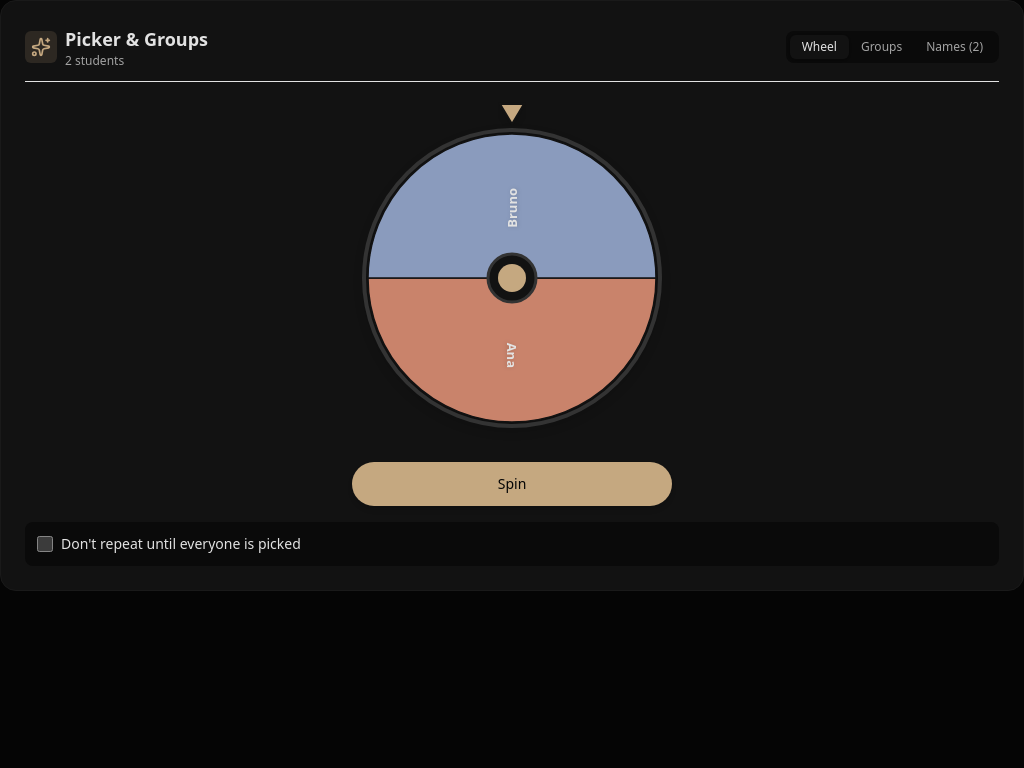
Test: ClassroomPicker (SDD/2026-10-03_06-sorteador-de-alunos-e-grupos.md) › CT08 / CA08: with prefers-reduced-motion: reduce, winner appears immediately without spin animation delay
What coordinates should you click on to do the following:
click the button "Spin"
I would click on:
 (512, 484)
Its box is [352,462,672,506].
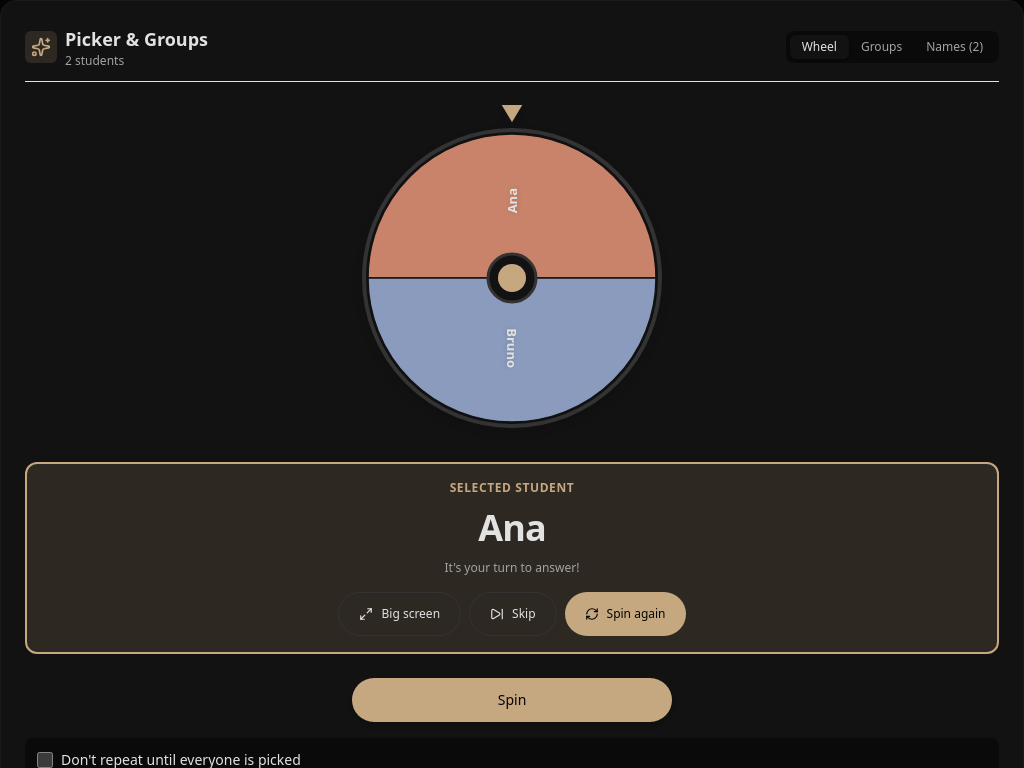
Result: the element that starts with "Selected Student" is shown at [25,462,999,654]
Result: the text "Ana" is shown at [478,503,546,552]
